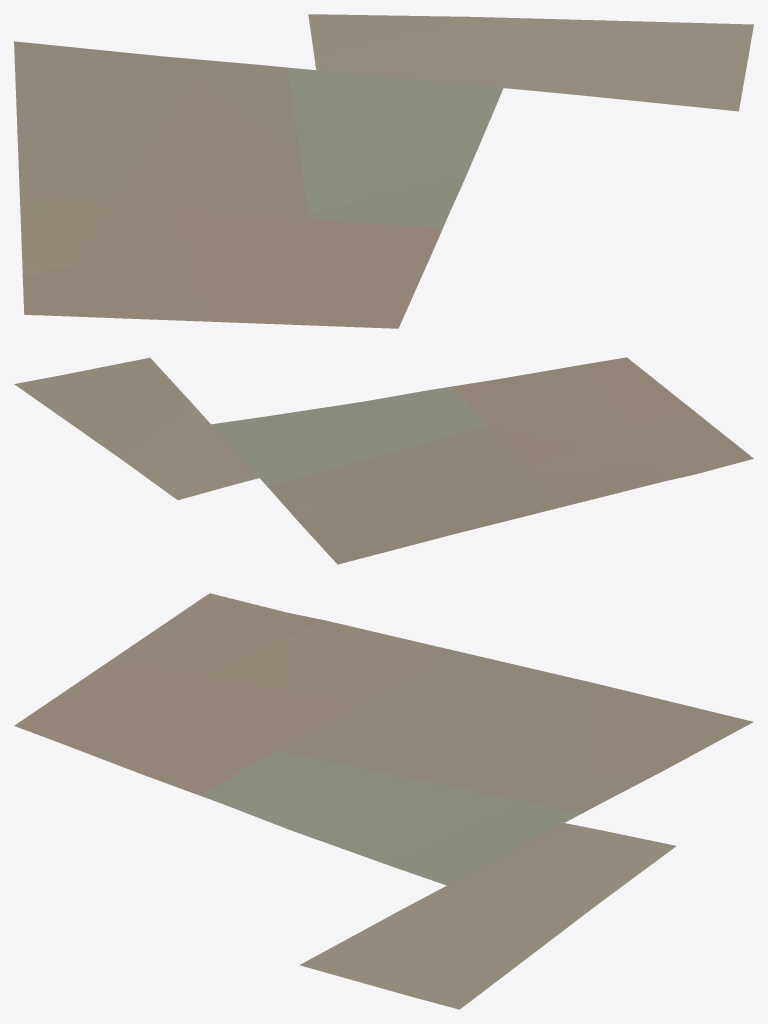
File: farm_8_9_soil.glb
The picture shows the model from 3 angles, top to bottom: view 1: azimuth 30°, elevation 25°; view 2: azimuth 150°, elevation 25°; view 3: azimuth 270°, elevation 25°; orthographic projection. The views are drawn at different scales.
Parts seen in each view (by area): view 1: geometry_0; view 2: geometry_0; view 3: geometry_0.
Part boxes in pixels (x1,y1,x2,y2): geometry_0: (14,14,753,328); geometry_0: (14,357,753,564); geometry_0: (14,593,753,1009).
Bounding box in the file's own units: 245 × 4.6 × 190.
